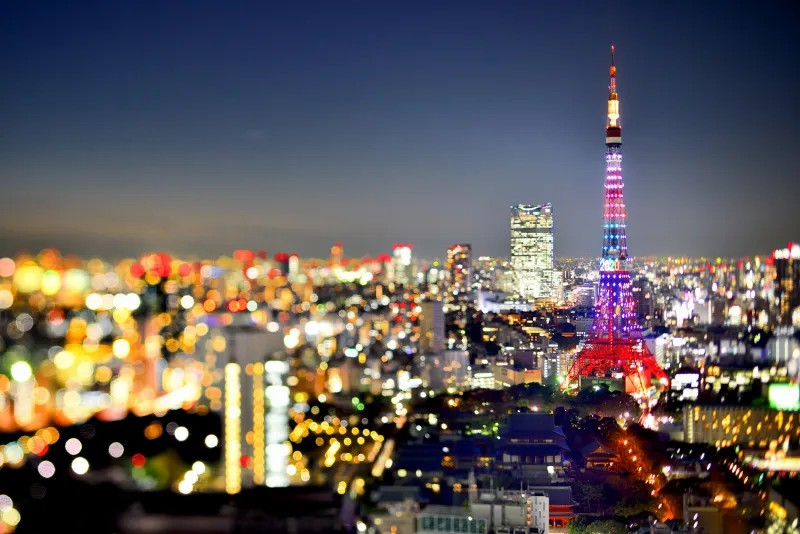Tokyo: (569, 39, 669, 398)
